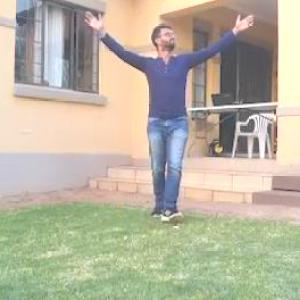takeoff: (80, 23, 240, 225)
